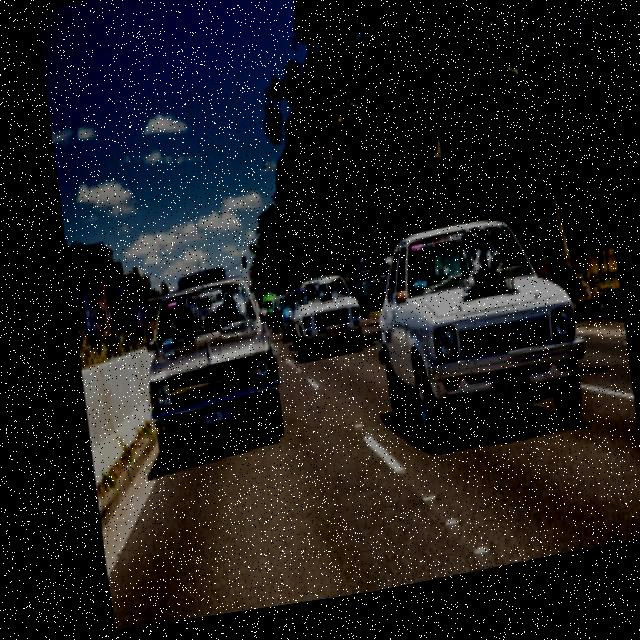license_plate: (483, 383, 523, 414), (194, 406, 226, 435)
